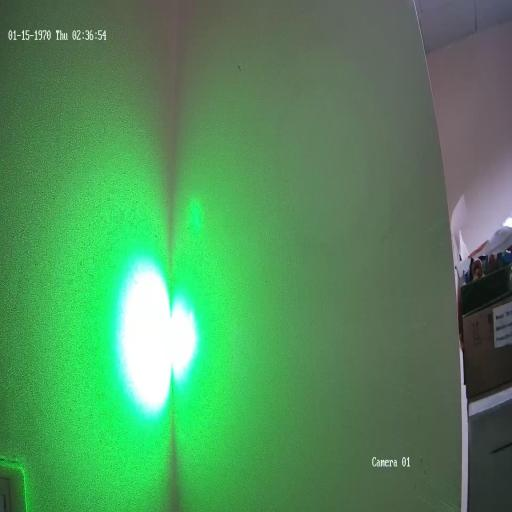laser: (99, 213, 220, 433)
